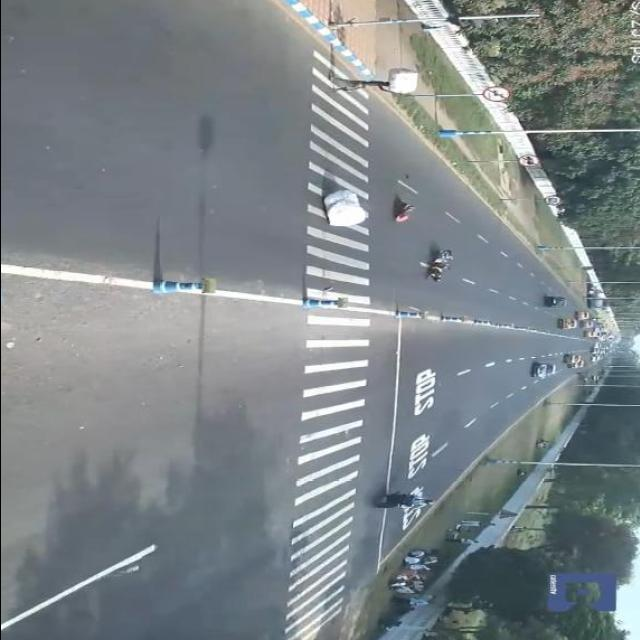accident: (417, 248, 461, 288), (384, 191, 416, 233)
